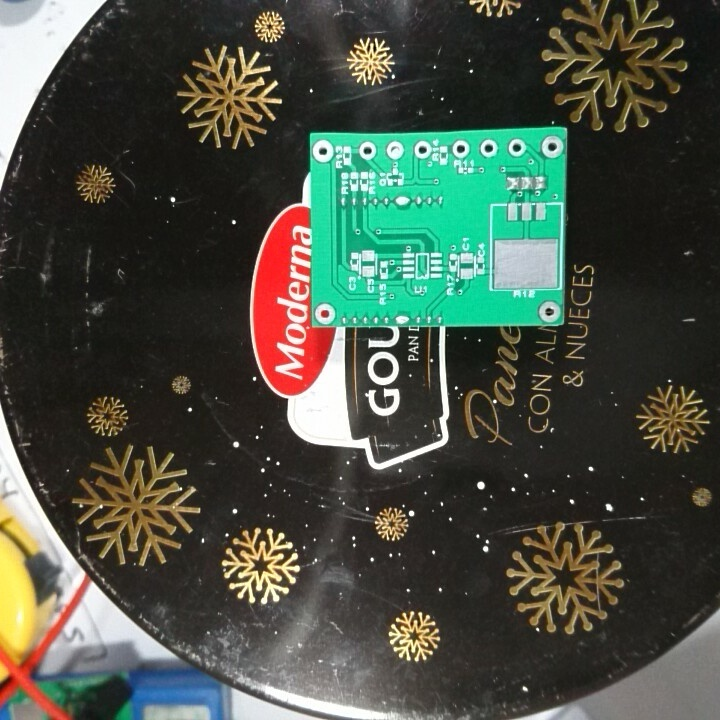F: (538, 133, 564, 163), (311, 137, 340, 163), (312, 302, 339, 328), (503, 135, 530, 160), (537, 298, 562, 323), (410, 138, 433, 163), (478, 137, 501, 160), (382, 139, 406, 160), (358, 140, 379, 161), (450, 139, 471, 159)
P: (393, 192, 412, 209), (393, 312, 413, 327)
